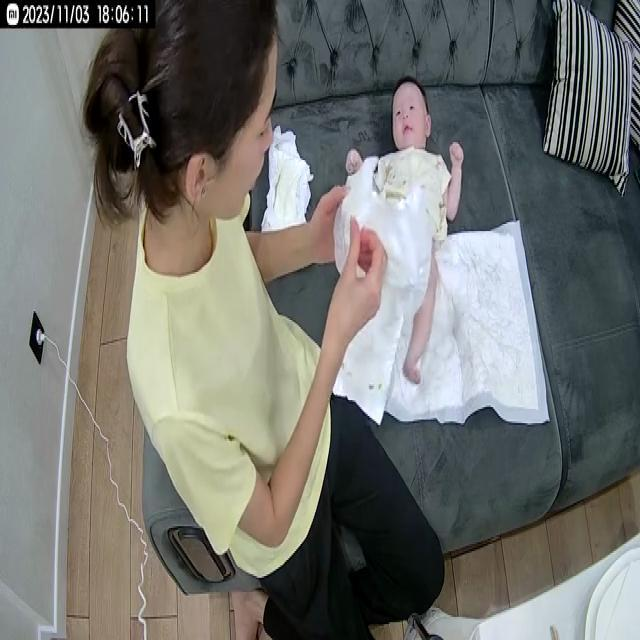baby: (340, 66, 464, 394)
